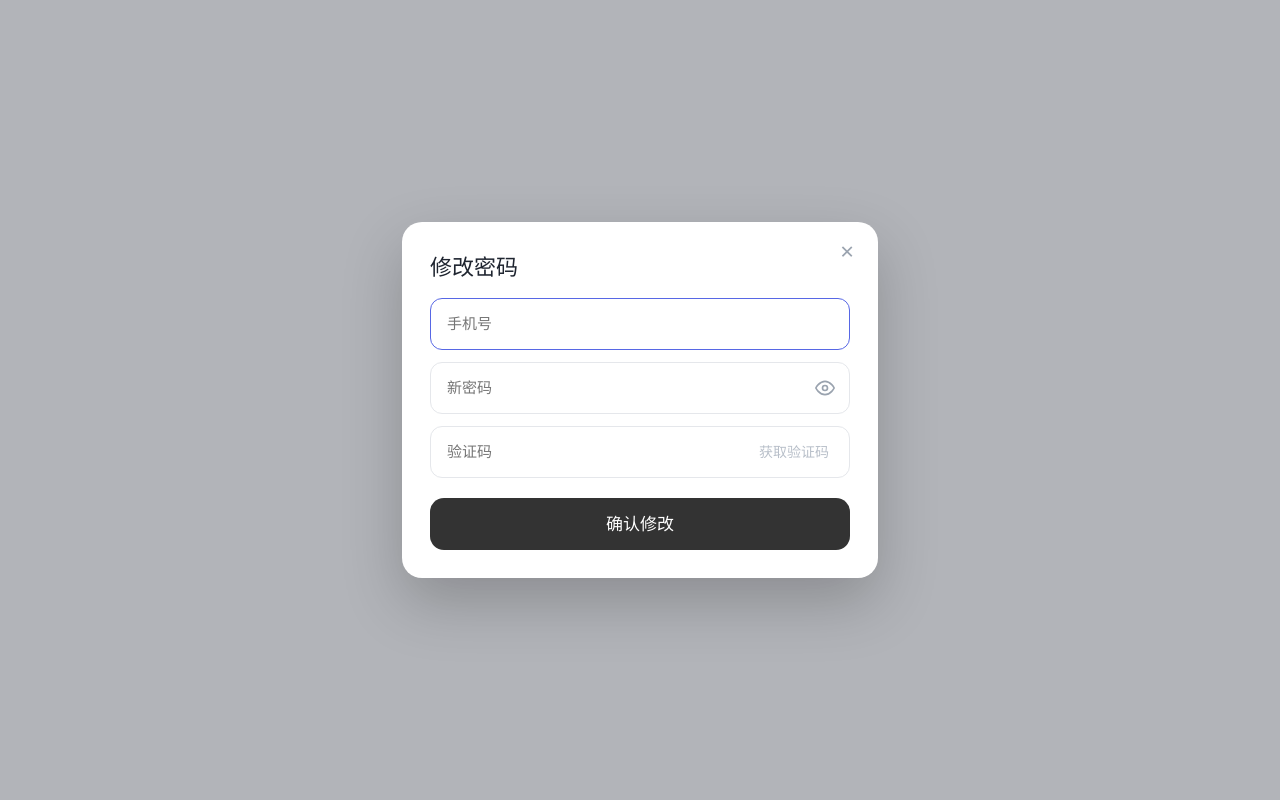
it: ChangePasswordModal behavior › validates password and code before reset and keeps SMS disabled for an invalid mobile
Step 1. Type "123" into the field labelled "手机号" → (640, 324), box [445,314,835,333]
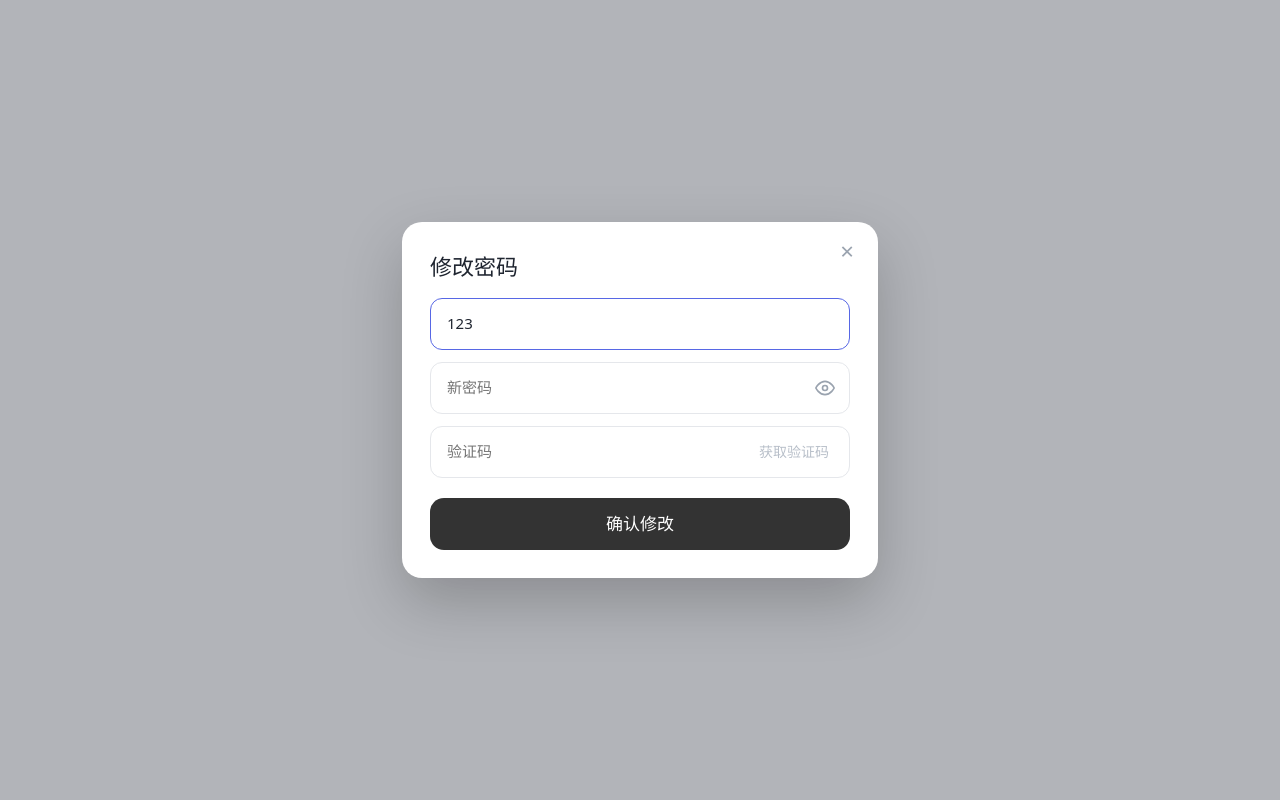
Check: the button "获取验证码" is disabled, box [749,443,835,461]
Step 2. Click the button "确认修改" → (640, 524), box [430,498,850,550]
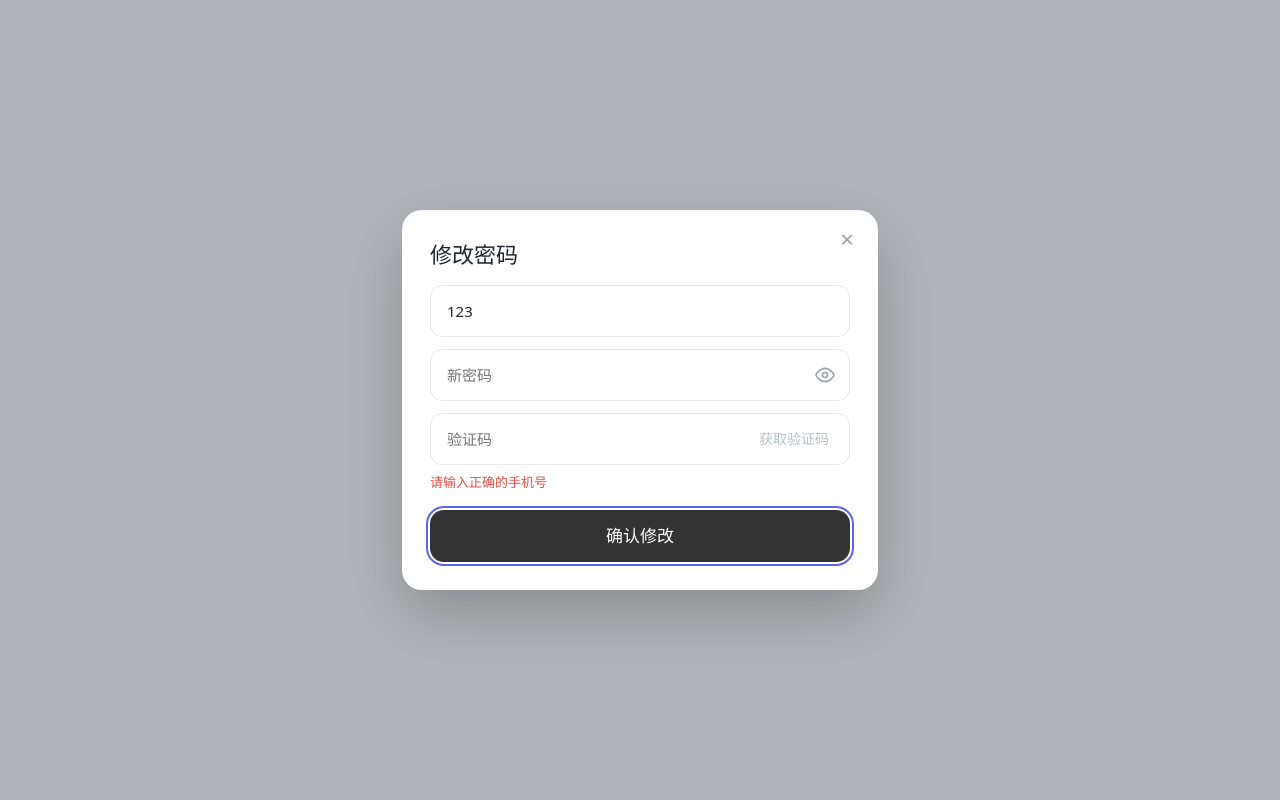
Check: the text "请输入正确的手机号" is shown, box [430,473,547,491]
Step 3. Clear the field named "手机号" → (640, 311), box [445,302,835,321]
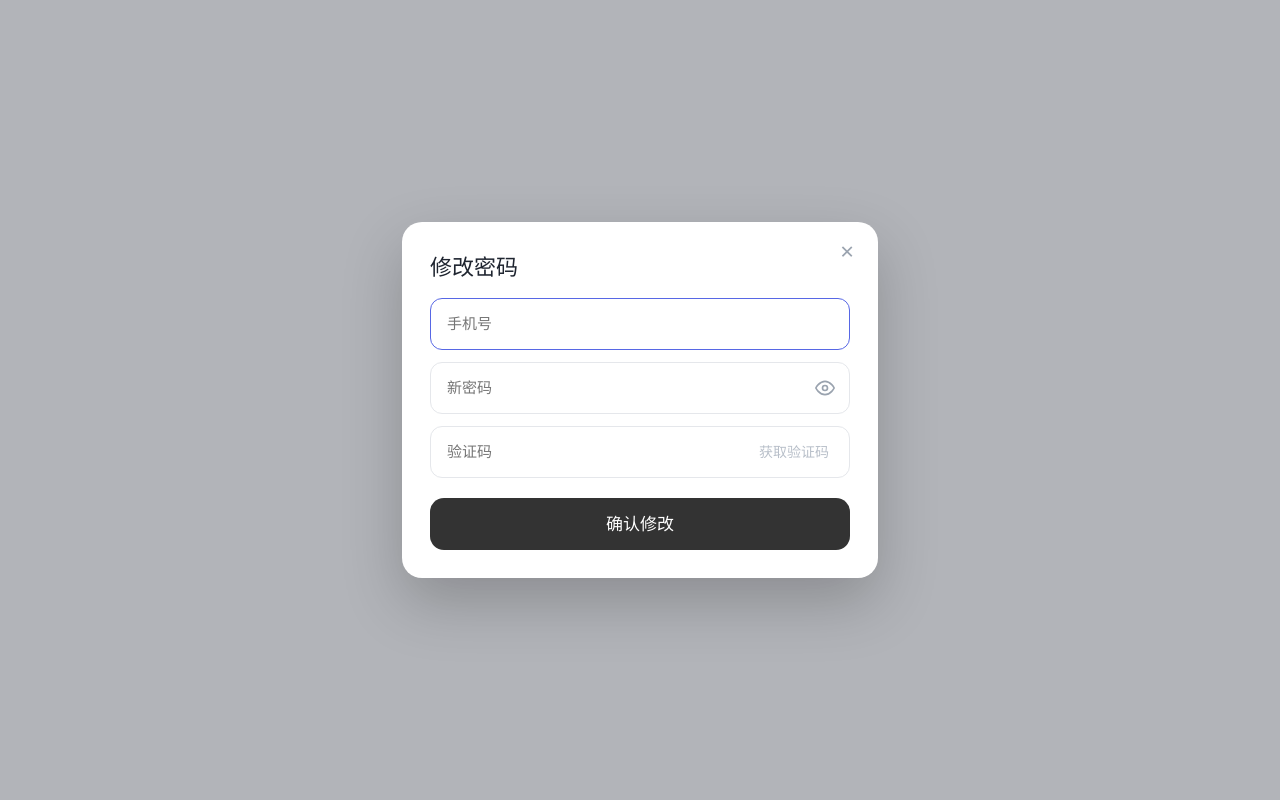
Step 4. Type "17633125265" into the field labelled "手机号" → (640, 324), box [445,314,835,333]
Step 5. Click the button "确认修改" → (640, 524), box [430,498,850,550]
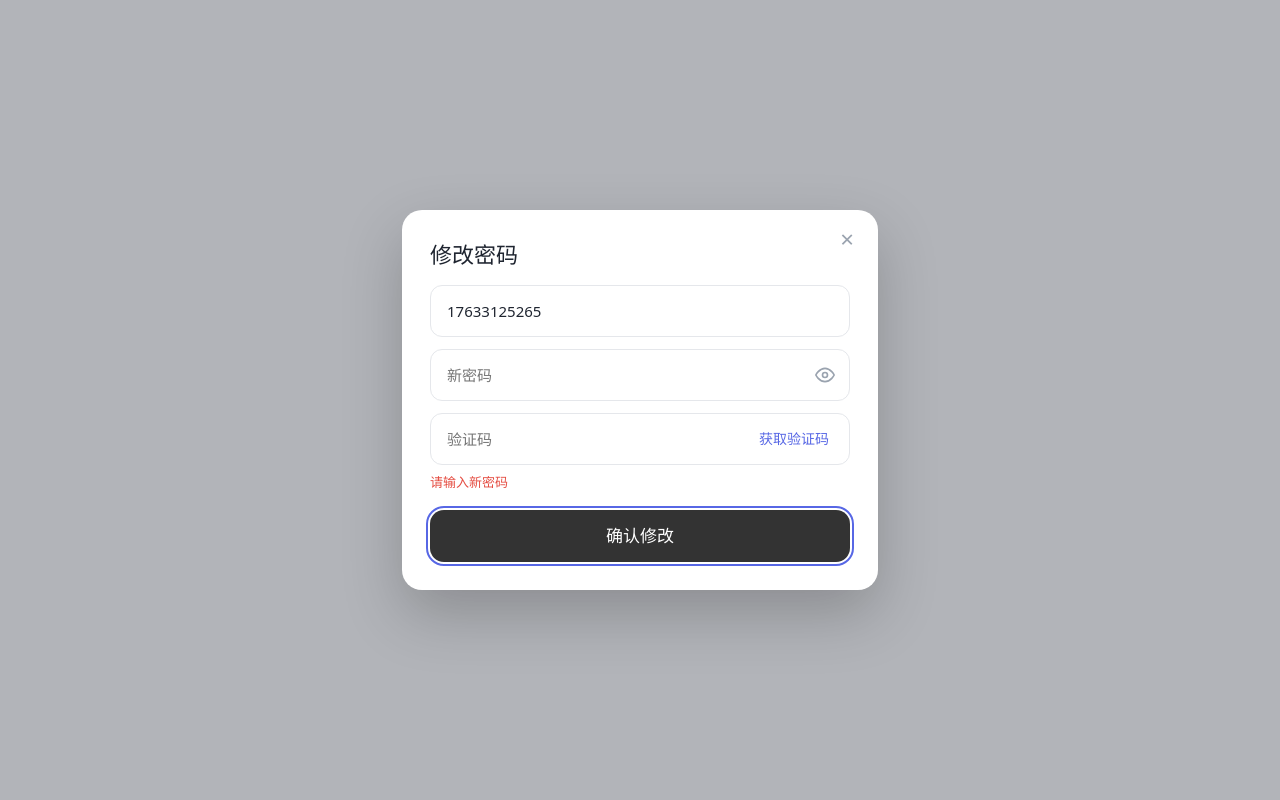
Check: the text "请输入新密码" is shown, box [430,473,508,491]
Step 6. Type "Changed-Password-1!" into the password field labelled "新密码" → (626, 375), box [445,366,807,385]
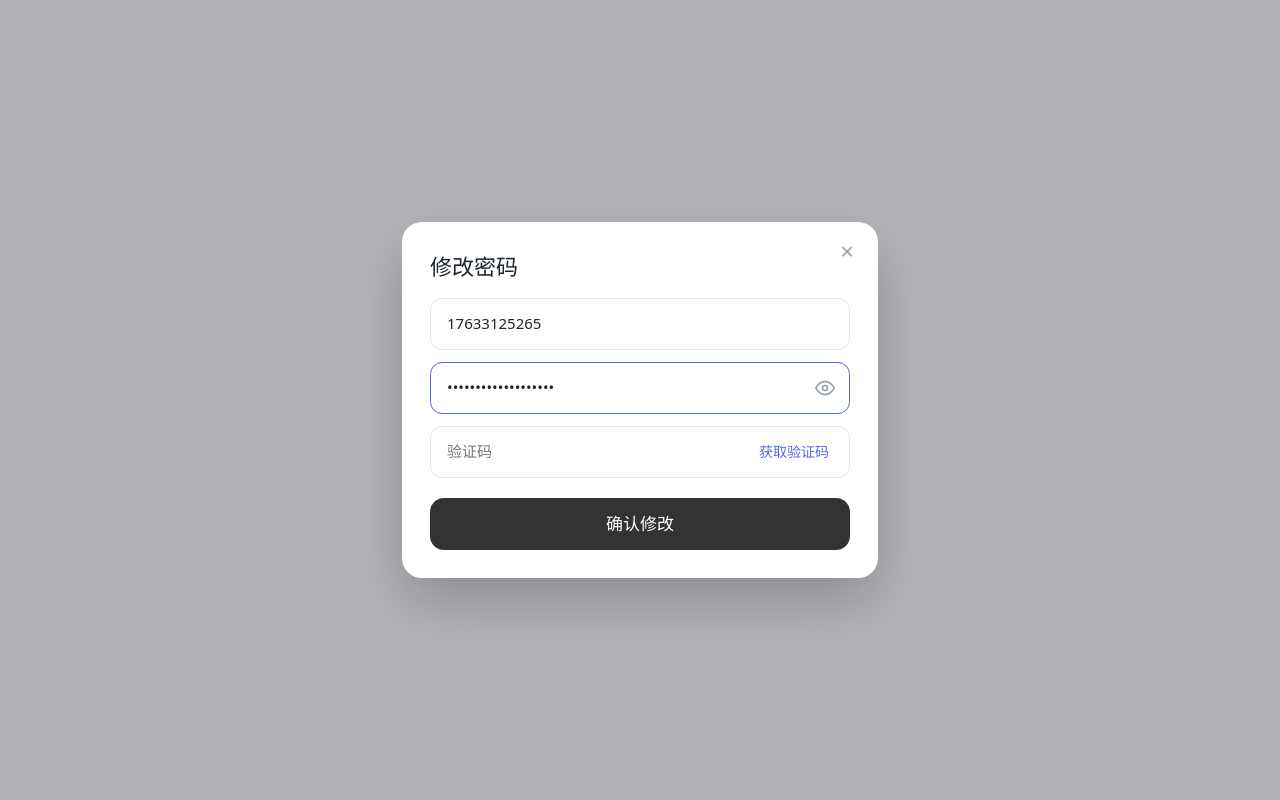
Step 7. Click the button "确认修改" → (640, 524), box [430,498,850,550]
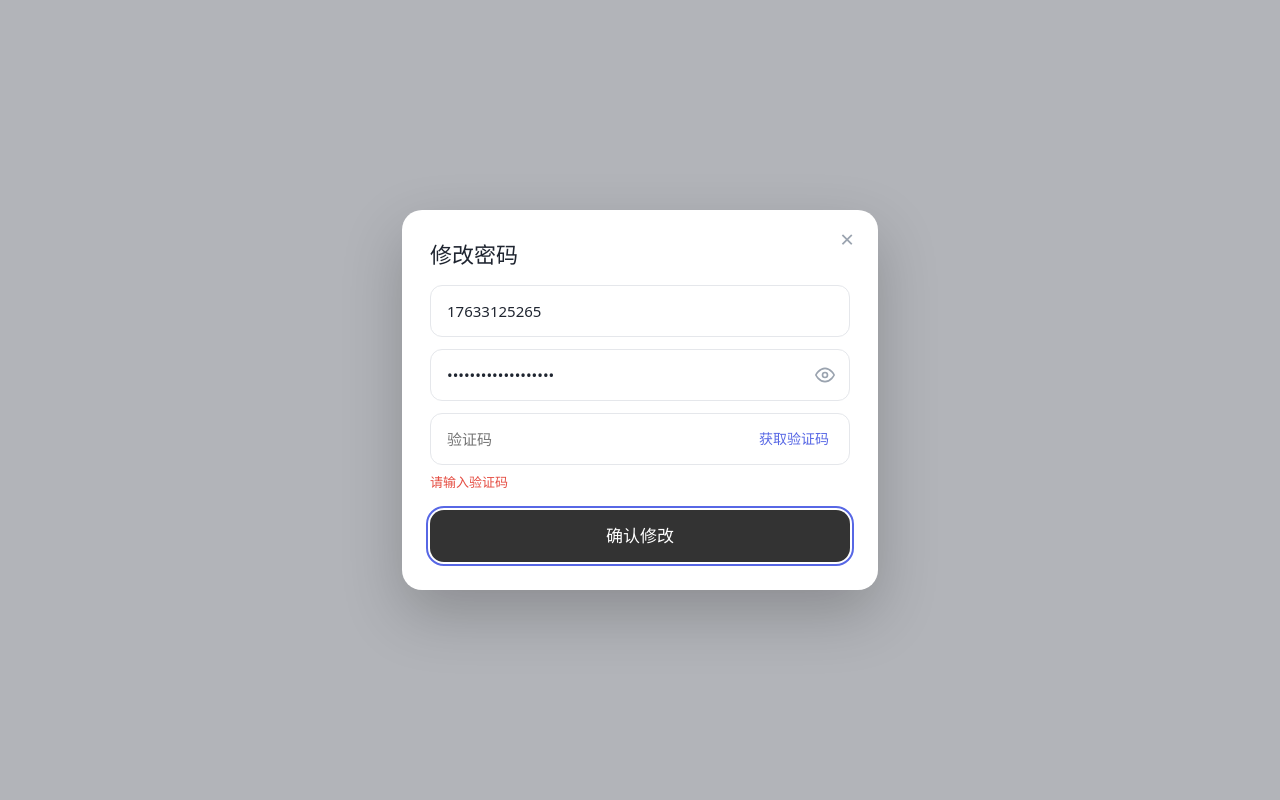
Check: the text "请输入验证码" is shown, box [430,473,508,491]
